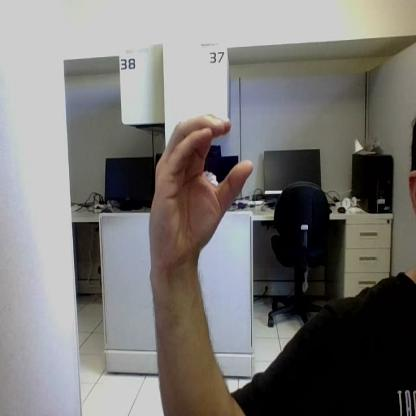C: (148, 115, 252, 246)
